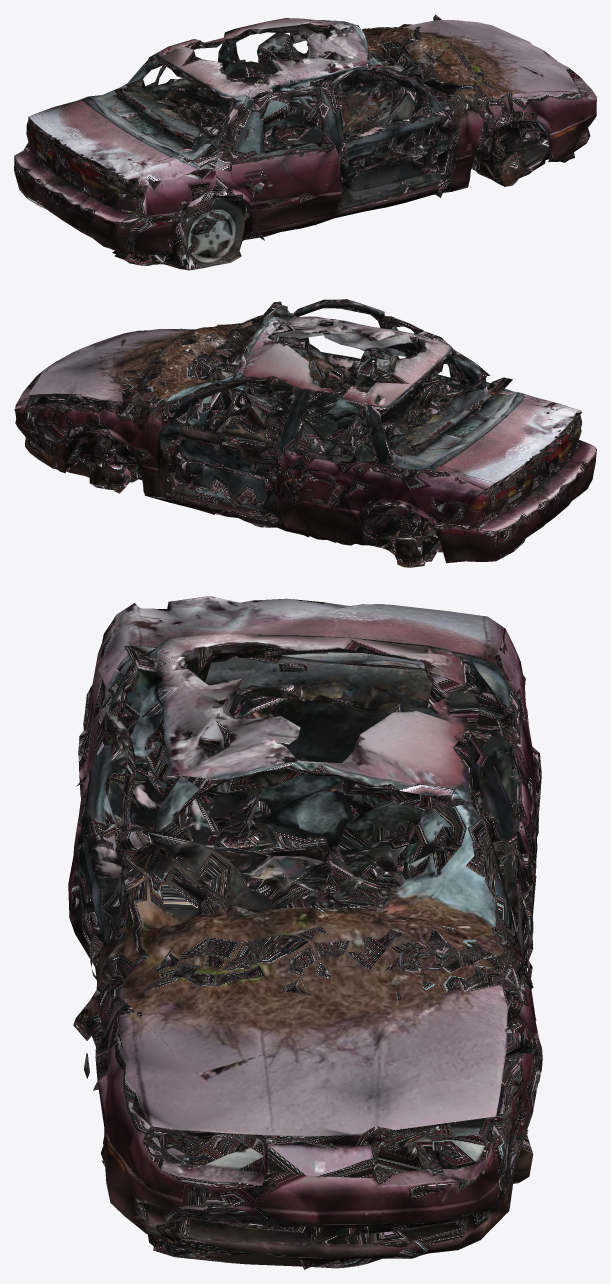
Rendered from wreck-d.glb.
The picture shows the model from 3 angles, top to bottom: view 1: azimuth 30°, elevation 25°; view 2: azimuth 150°, elevation 25°; view 3: azimuth 270°, elevation 25°; orthographic projection. The views are drawn at different scales.
Visible parts, largest first — view 1: scan; view 2: scan; view 3: scan.
Part boxes in pixels (x1,y1,x2,y2): scan: (14,14,596,270); scan: (14,299,596,567); scan: (68,596,542,1269).
Bounding box in the file's own units: 25.27 × 7.36 × 9.98.
Materials: 1 (1 with a texture image).
